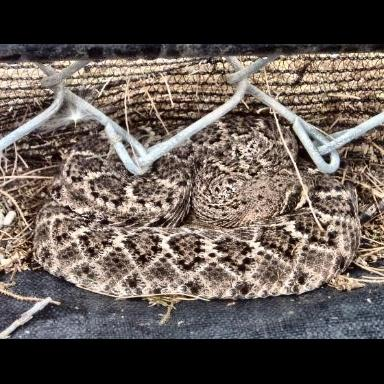snake: (33, 112, 360, 297)
